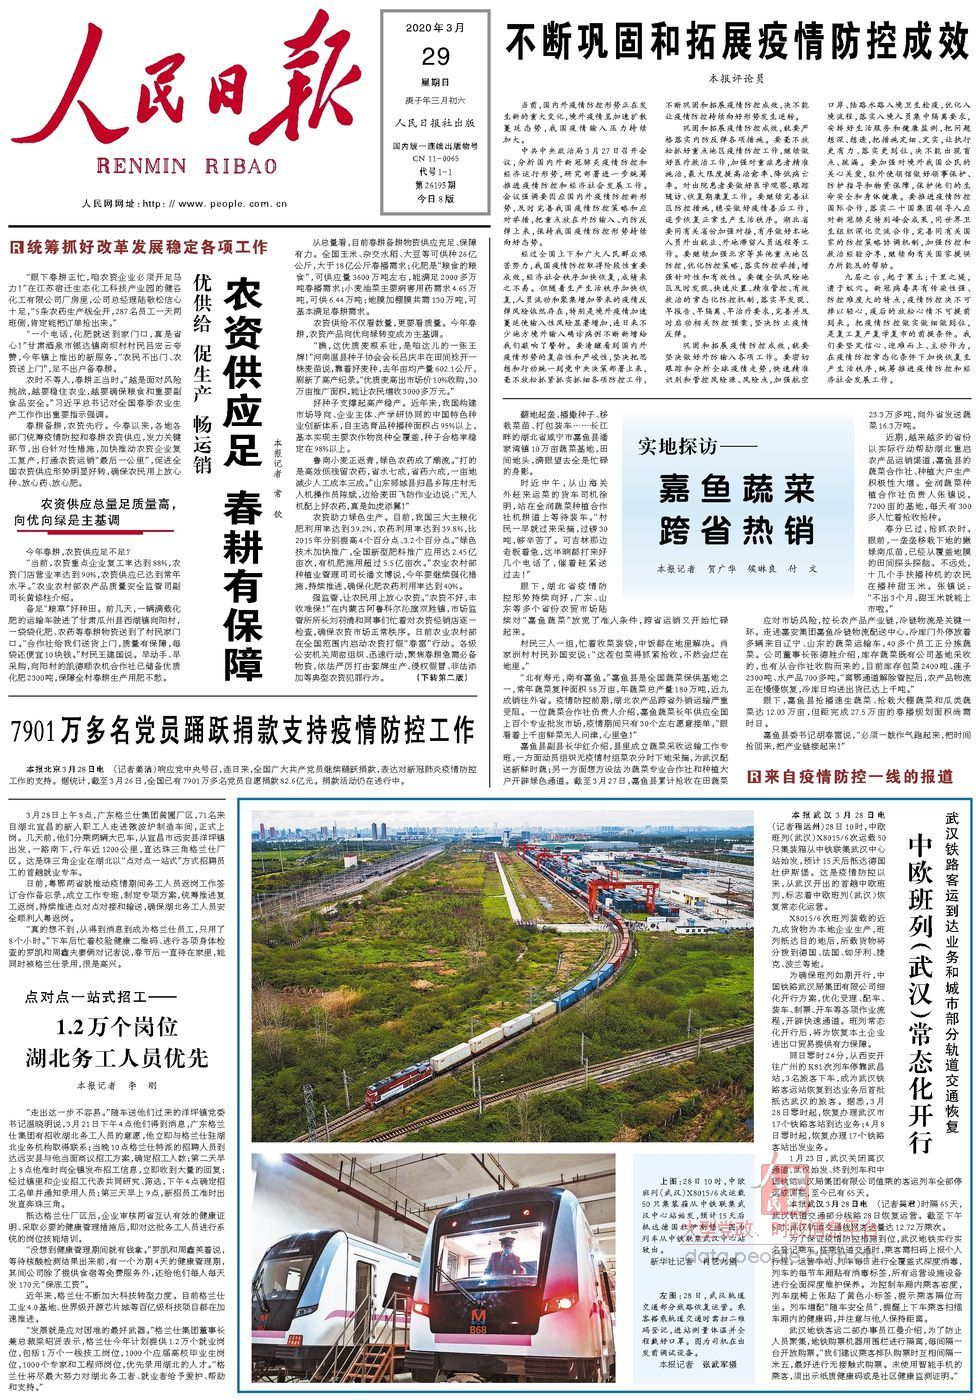pic: (249, 806, 758, 1148), (249, 1148, 622, 1387)
